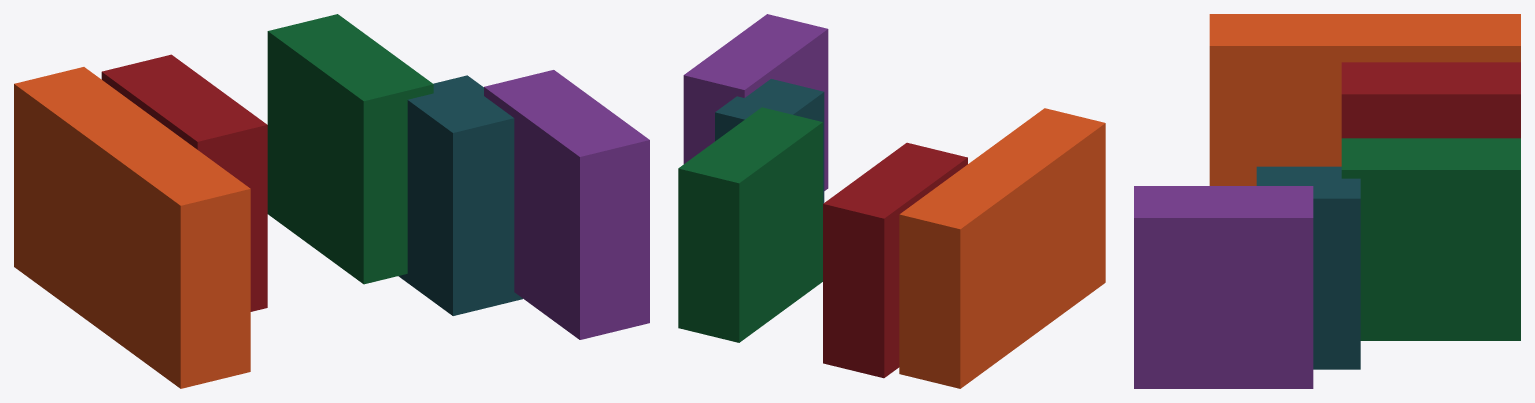
The model's file is obstacle.obj.
3 renders of one model, left to right at view 1: azimuth 30°, elevation 25°; view 2: azimuth 150°, elevation 25°; view 3: azimuth 270°, elevation 25°, orthographic. The views are drawn at different scales.
Parts seen in each view (by area): view 1: group_0_14900002, group_0_1206582, group_0_8273816, group_0_1855578, group_0_9771553; view 2: group_0_14900002, group_0_1206582, group_0_9771553, group_0_8273816, group_0_1855578; view 3: group_0_8273816, group_0_1206582, group_0_14900002, group_0_9771553, group_0_1855578.
Part boxes in pixels (left/top/right/bottom): group_0_14900002: left=14, top=67, right=250, bottom=388; group_0_1206582: left=267, top=14, right=433, bottom=284; group_0_8273816: left=484, top=70, right=649, bottom=339; group_0_1855578: left=398, top=75, right=522, bottom=315; group_0_9771553: left=101, top=54, right=267, bottom=311; group_0_14900002: left=899, top=108, right=1105, bottom=388; group_0_1206582: left=678, top=107, right=822, bottom=342; group_0_9771553: left=823, top=142, right=967, bottom=378; group_0_8273816: left=683, top=14, right=828, bottom=190; group_0_1855578: left=715, top=79, right=824, bottom=203; group_0_8273816: left=1134, top=186, right=1313, bottom=388; group_0_1206582: left=1341, top=138, right=1520, bottom=340; group_0_14900002: left=1209, top=14, right=1520, bottom=185; group_0_9771553: left=1341, top=62, right=1520, bottom=138; group_0_1855578: left=1256, top=166, right=1360, bottom=369.
Size of the model in its own units: 49 by 22 by 41.
